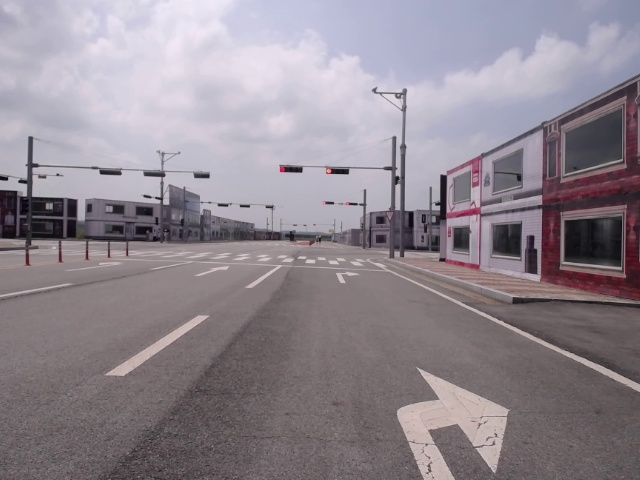red_4: (278, 165, 303, 173), (325, 168, 351, 175), (344, 201, 357, 206), (320, 201, 336, 205)
